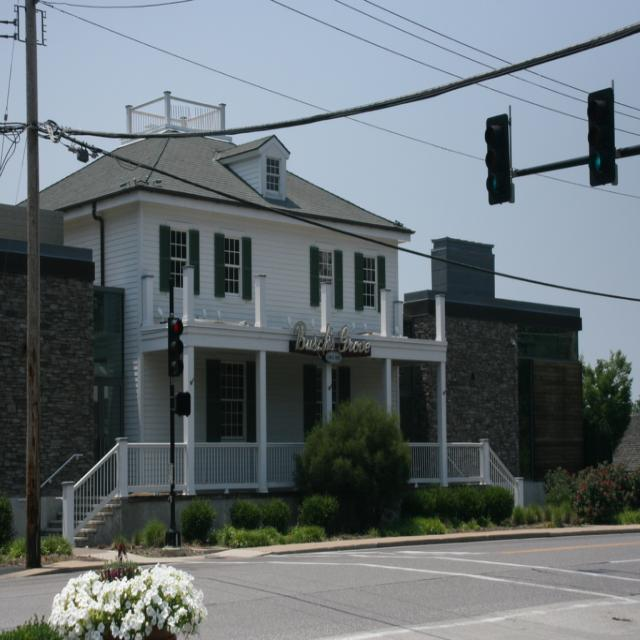traffic light: (588, 94, 618, 188), (486, 119, 512, 204), (165, 315, 184, 379)
